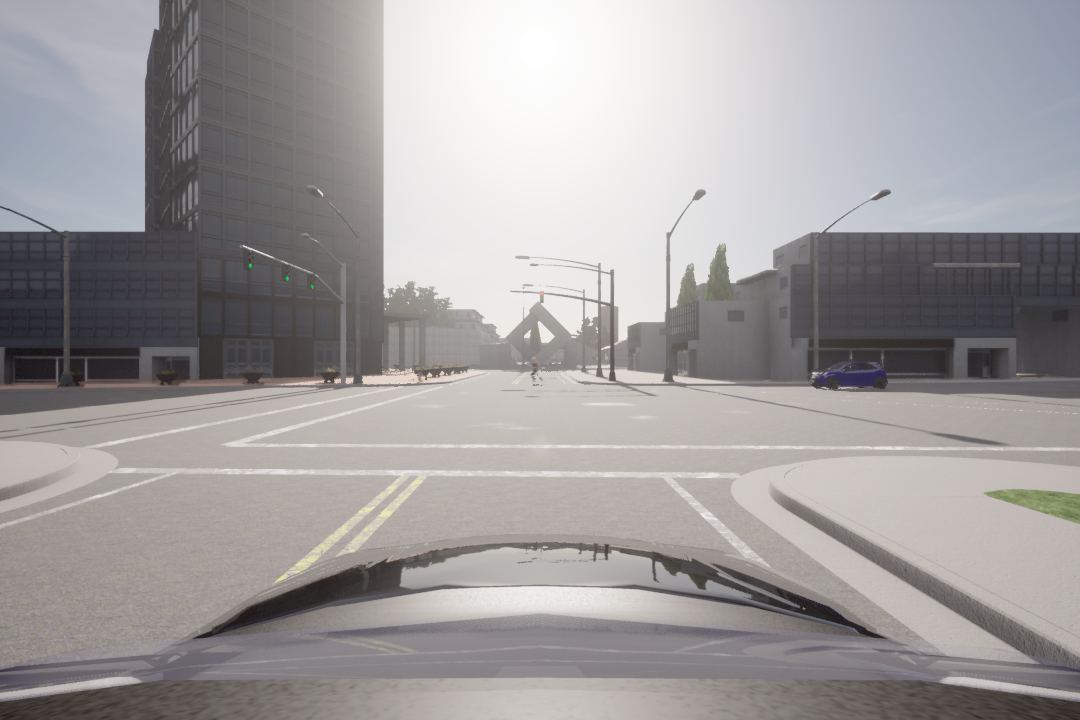TrafficLight: (277, 258, 292, 286), (532, 284, 547, 306), (243, 247, 256, 271), (305, 272, 315, 291)
